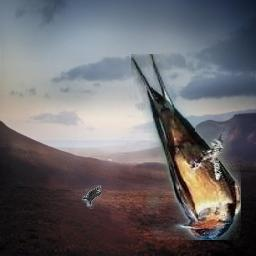Swallow: (131, 54, 241, 240), (82, 185, 102, 209)
